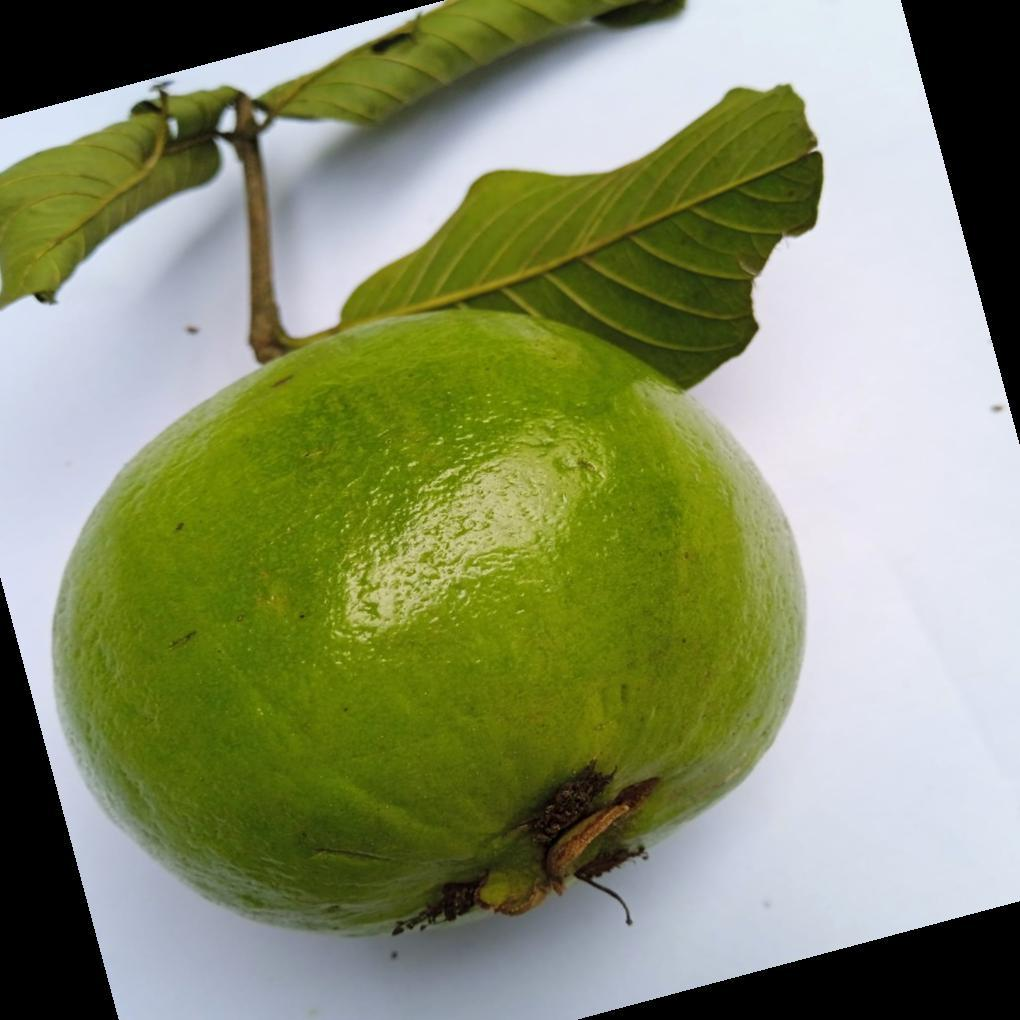FreshGuava: (49, 301, 809, 938)
